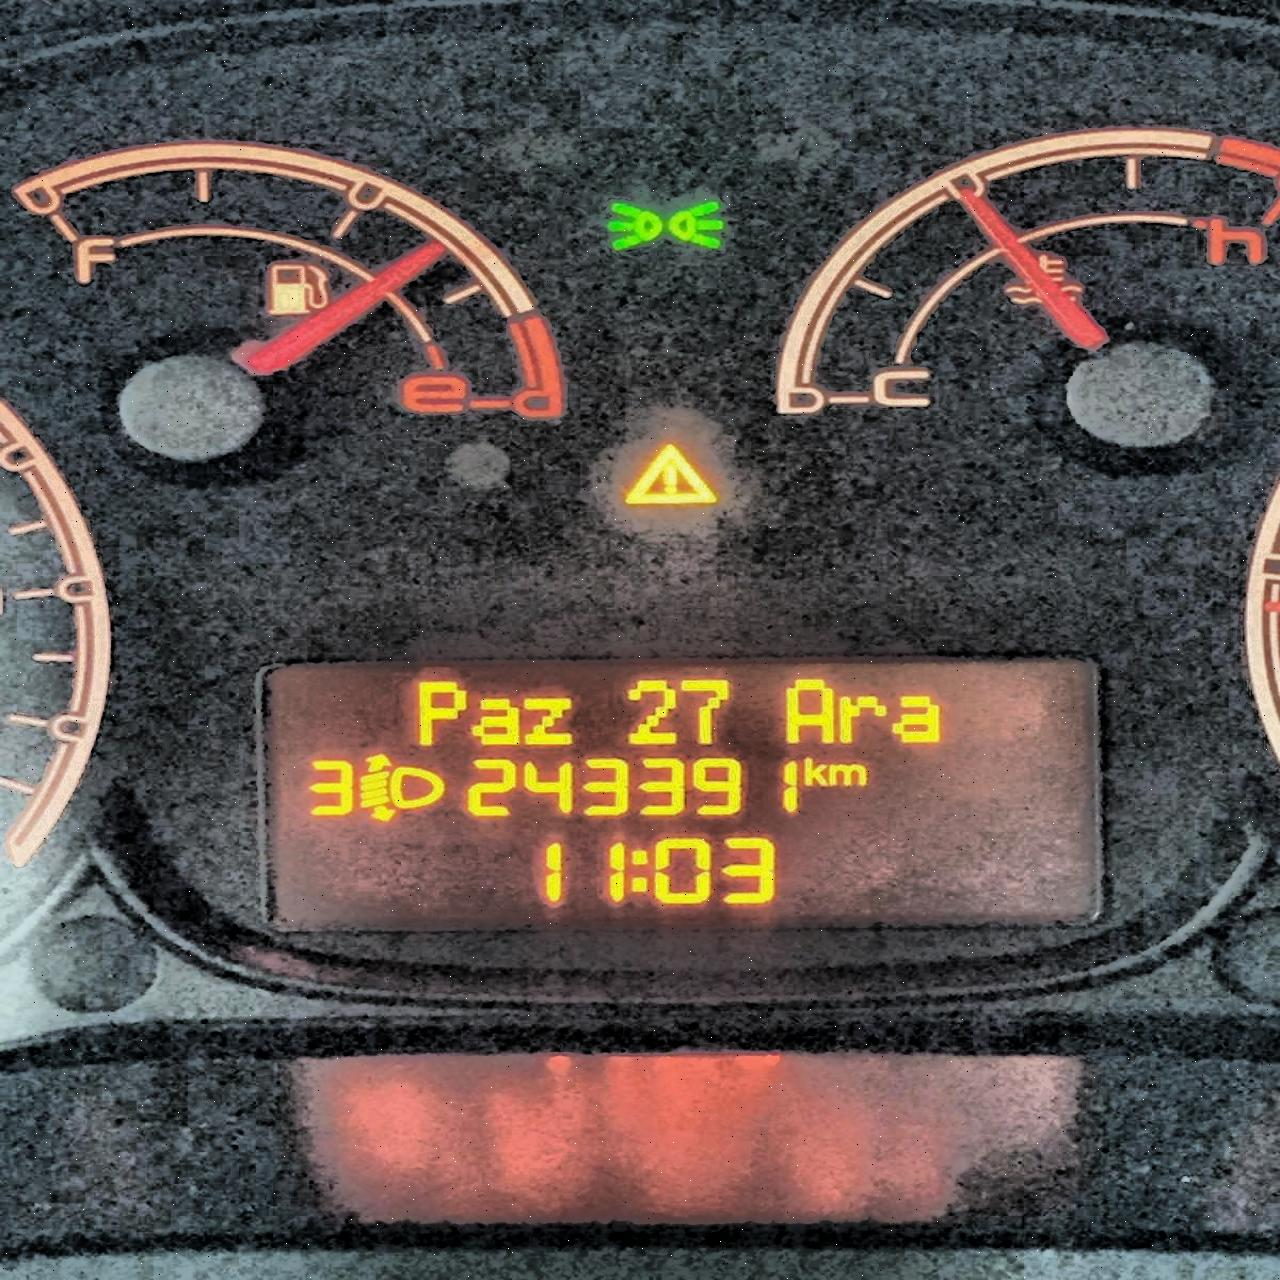0: (654, 835, 713, 904)
1: (537, 835, 570, 907), (605, 837, 627, 908), (778, 757, 801, 815)
2: (626, 676, 679, 747), (464, 753, 517, 822)
3: (722, 833, 776, 905), (635, 753, 689, 817), (579, 754, 629, 819), (308, 755, 356, 819)
4: (520, 756, 573, 818)
7: (679, 674, 730, 745)
9: (692, 755, 747, 816)
X: (781, 674, 835, 744), (410, 679, 464, 744), (522, 692, 578, 744), (893, 689, 945, 747), (832, 692, 885, 744), (470, 694, 523, 744), (627, 844, 649, 898), (797, 757, 832, 788), (828, 762, 869, 788)
odometer: (266, 655, 1110, 922)
